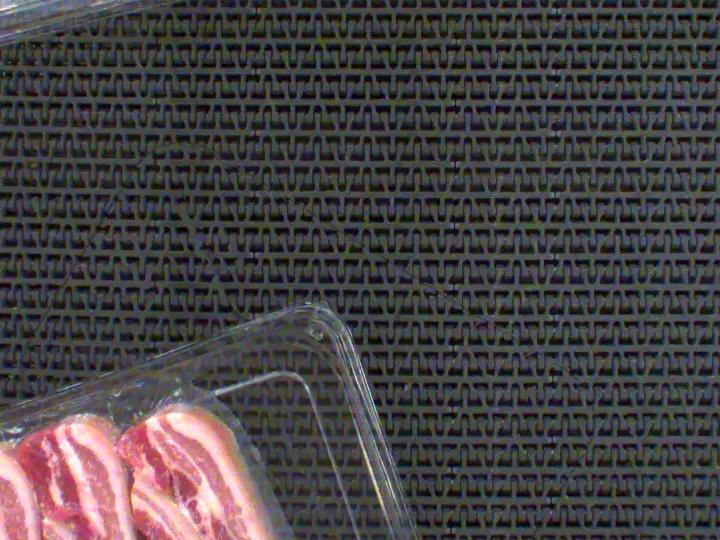unsealed: (0, 347, 324, 540)
